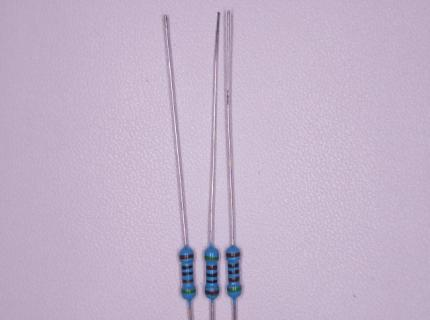Black band: (181, 264, 193, 270), (228, 269, 239, 275), (206, 272, 218, 277), (227, 263, 239, 268), (182, 271, 193, 276), (206, 280, 218, 284)
Brown band: (226, 252, 241, 258), (179, 254, 193, 260), (205, 290, 220, 295), (228, 276, 240, 282), (206, 265, 218, 270), (182, 279, 194, 283)
Green band: (227, 286, 242, 292), (204, 255, 219, 260), (181, 289, 196, 294)
